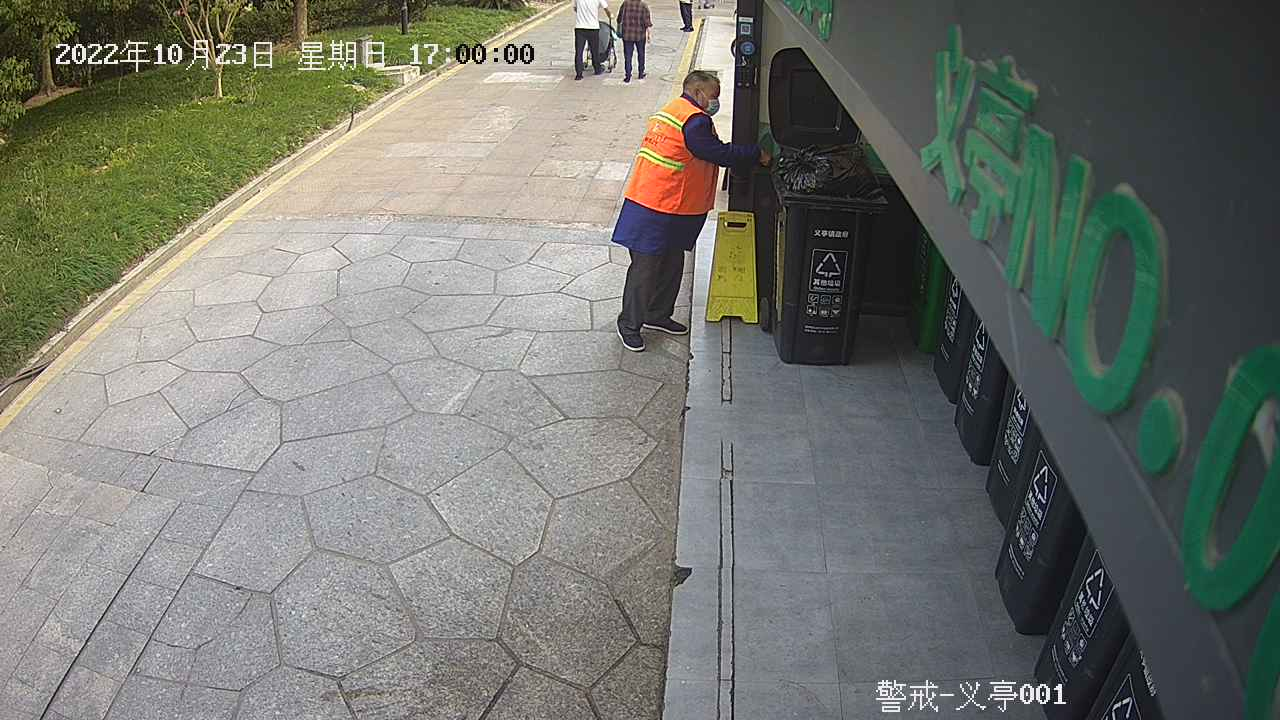worker: (603, 63, 778, 358)
